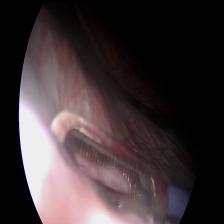Bipolar: (57, 119, 184, 222)
